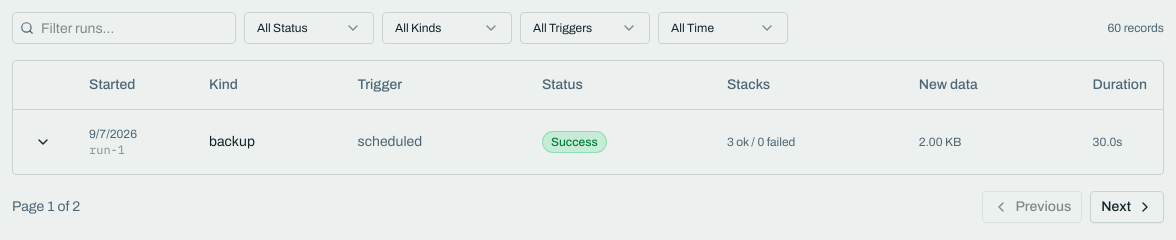
Test case: BackupHistoryTab — the pager › disables Next on the last page
The image size is (1176, 240).
Expected: the text "Page 1 of 2" is shown, [12,196,80,216]
What coordinates should you click on to do the following:
click the button "Next"
I would click on:
 (1127, 206)
Its box is [1090,190,1164,222].
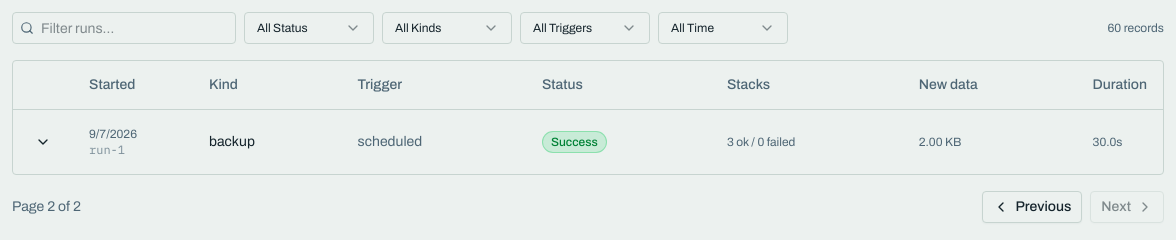
Now the text "Page 2 of 2" is shown, box [12,196,81,216]
Now the button "Next" is disabled, box [1090,190,1164,222]
Now the button "Previous" is enabled, box [982,190,1082,222]
